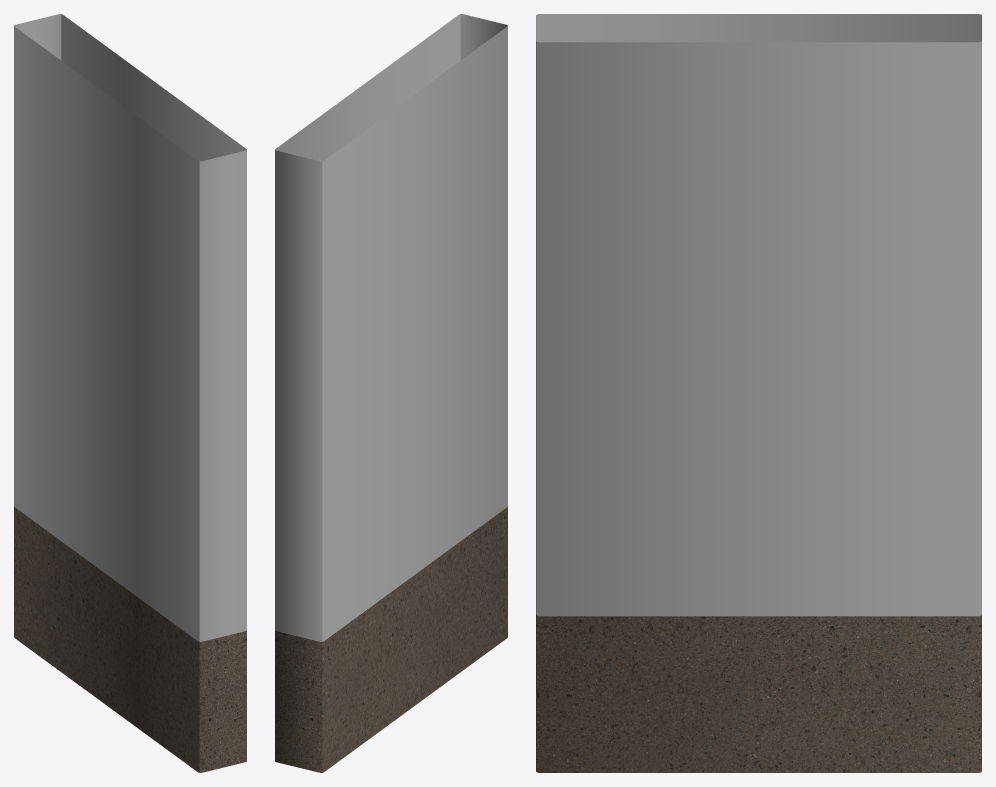
Rendered from Wall_02.fbx.
3 renders of one model, left to right at view 1: azimuth 30°, elevation 25°; view 2: azimuth 150°, elevation 25°; view 3: azimuth 270°, elevation 25°, orthographic. The views are drawn at different scales.
Parts seen in each view (by area): view 1: Wall_02; view 2: Wall_02; view 3: Wall_02.
Boxes of the visible parts, x1=… form: Wall_02: x1=14, y1=14, x2=246, y2=772; Wall_02: x1=275, y1=14, x2=507, y2=772; Wall_02: x1=536, y1=14, x2=981, y2=772.
Bounding box in the file's own units: 0.3 × 3.62 × 2.
